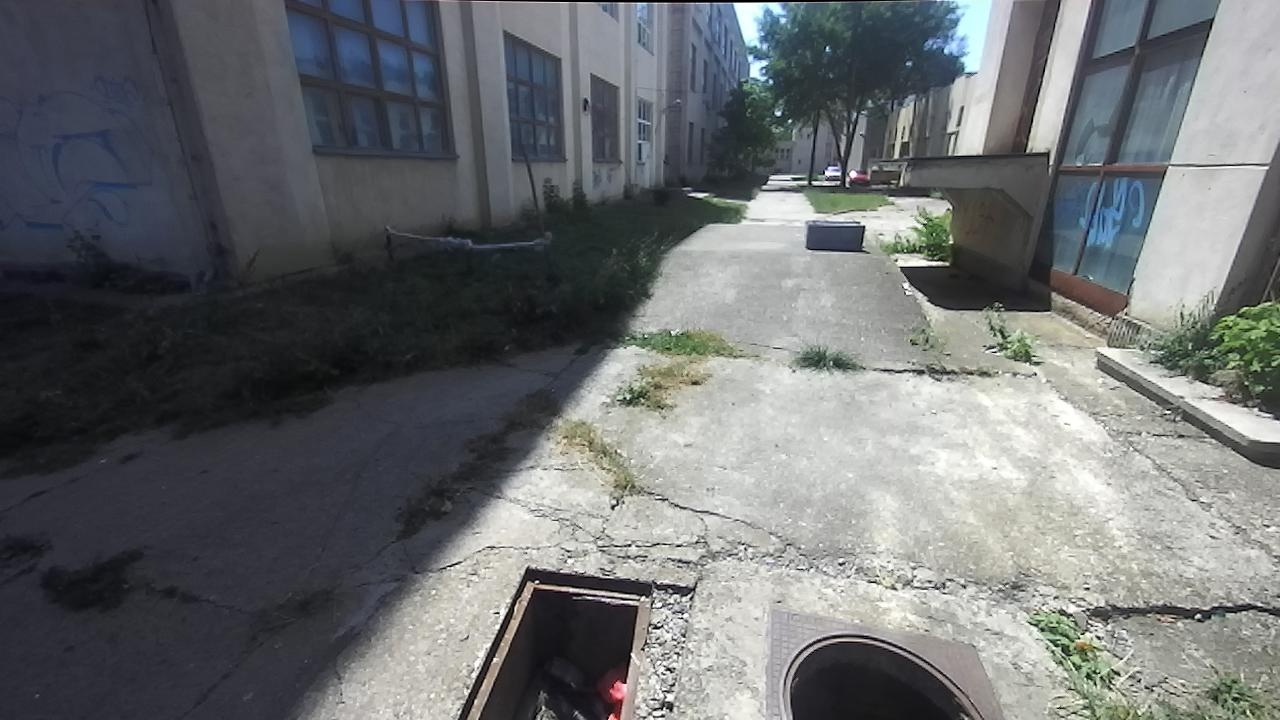drain: (451, 564, 659, 720), (766, 614, 985, 720)
